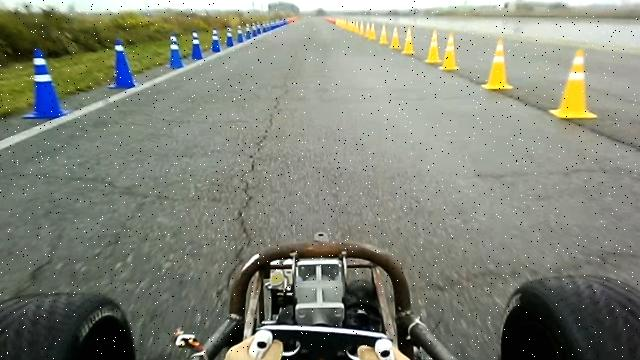blue cone: (21, 47, 70, 119), (107, 38, 136, 89), (166, 34, 184, 69), (190, 29, 203, 60), (211, 27, 221, 52), (225, 26, 234, 47)
yellow cone: (549, 49, 598, 120), (481, 38, 513, 90), (439, 32, 459, 70), (401, 26, 415, 54), (389, 26, 401, 50), (379, 24, 388, 44)
